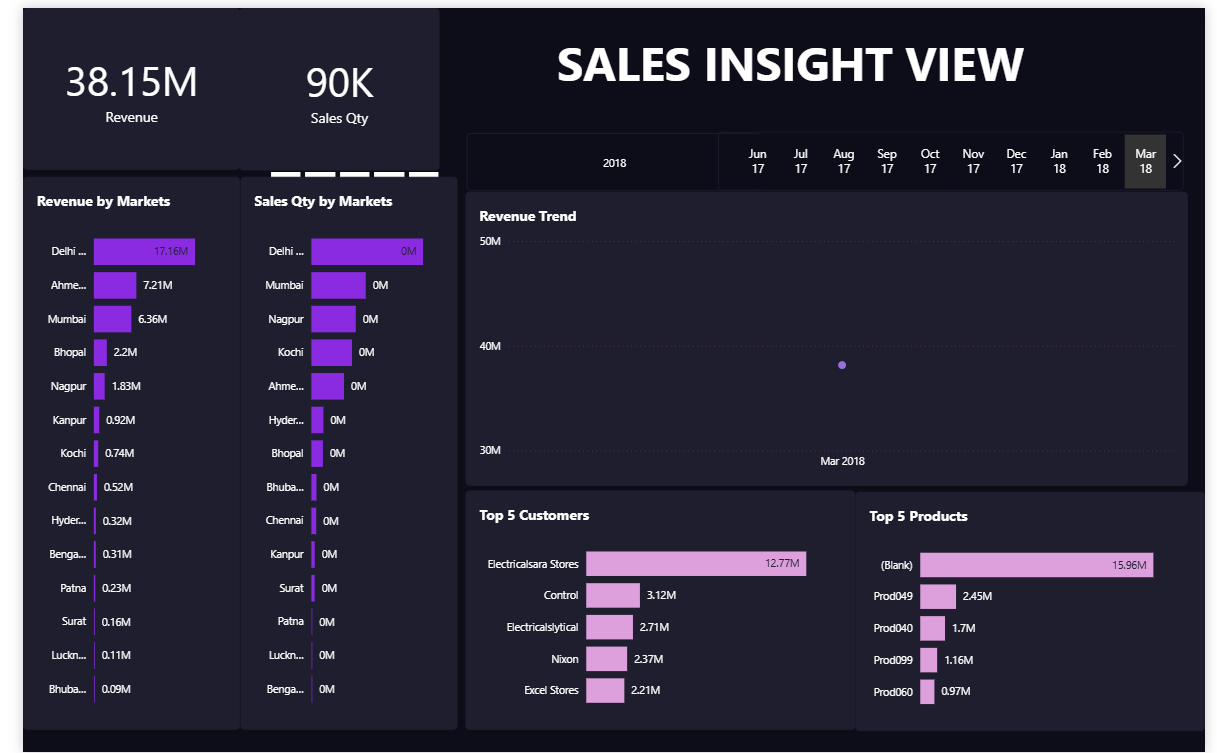

Layout of this report page (visuals, bound fields, positions):
{"tool":"powerbi","page":{"name":"Page 1","canvas":[1350,850],"ordinal":0},"visuals":[{"type":"card","fields":{"Values":["BaseMeasures (2).Revenue"]},"box":[0,0,247.9,184.6],"z":0},{"type":"card","fields":{"Values":["BaseMeasures (2).Sales Qty"]},"box":[247.5,0,228.7,185.2],"z":1000},{"type":"barChart","title":"Revenue by Markets","fields":{"Y":["BaseMeasures (2).Revenue"],"Category":["sales markets.markets_name"]},"box":[0,193.1,247.9,631.9],"z":2000},{"type":"barChart","title":"Sales Qty by Markets","fields":{"Y":["BaseMeasures (2).Sales Qty"],"Category":["sales markets.markets_name"]},"box":[247.9,193.1,247.9,631.9],"z":3000},{"type":"slicer","fields":{"Values":["sales date.year"]},"box":[506.5,143.3,335.8,66.6],"z":4000},{"type":"slicer","fields":{"Values":["sales date.cy_date"]},"box":[793.6,141.8,532,67.2],"z":5000},{"type":"barChart","title":"Top 5 Customers","fields":{"Y":["BaseMeasures (2).Revenue"],"Category":["sales customers.custmer_name"]},"box":[505.1,551.4,445.8,273.5],"z":6000},{"type":"barChart","title":"Top 5 Products","fields":{"Y":["BaseMeasures (2).Revenue"],"Category":["sales products.product_code"]},"box":[950.9,552.9,399.4,273.5],"z":7000},{"type":"lineChart","title":"Revenue Trend","fields":{"Y":["BaseMeasures (2).Revenue"],"Category":["sales date.cy_date"]},"box":[505.7,210.5,825.7,336.1],"z":8000},{"type":"textbox","box":[99.9,99.9,299.6,110],"z":9000},{"type":"textbox","box":[495,26.1,765.6,99.9],"z":10000}]}

Visuals, with their boxes in screenshot pixels (x1, y1, x2, y2), scaled from the page's 1350x850 canvas onto the 1217x753 screenshot:
card - BaseMeasures (2).Revenue: 0/0/223/164
card - BaseMeasures (2).Sales Qty: 223/0/429/164
"Revenue by Markets" barChart: 0/171/223/731
"Sales Qty by Markets" barChart: 223/171/447/731
slicer - sales date.year: 457/127/759/186
slicer - sales date.cy_date: 715/126/1195/185
"Top 5 Customers" barChart: 455/488/857/731
"Top 5 Products" barChart: 857/490/1216/732
"Revenue Trend" lineChart: 456/186/1200/484
textbox: 90/88/360/186
textbox: 446/23/1136/112
